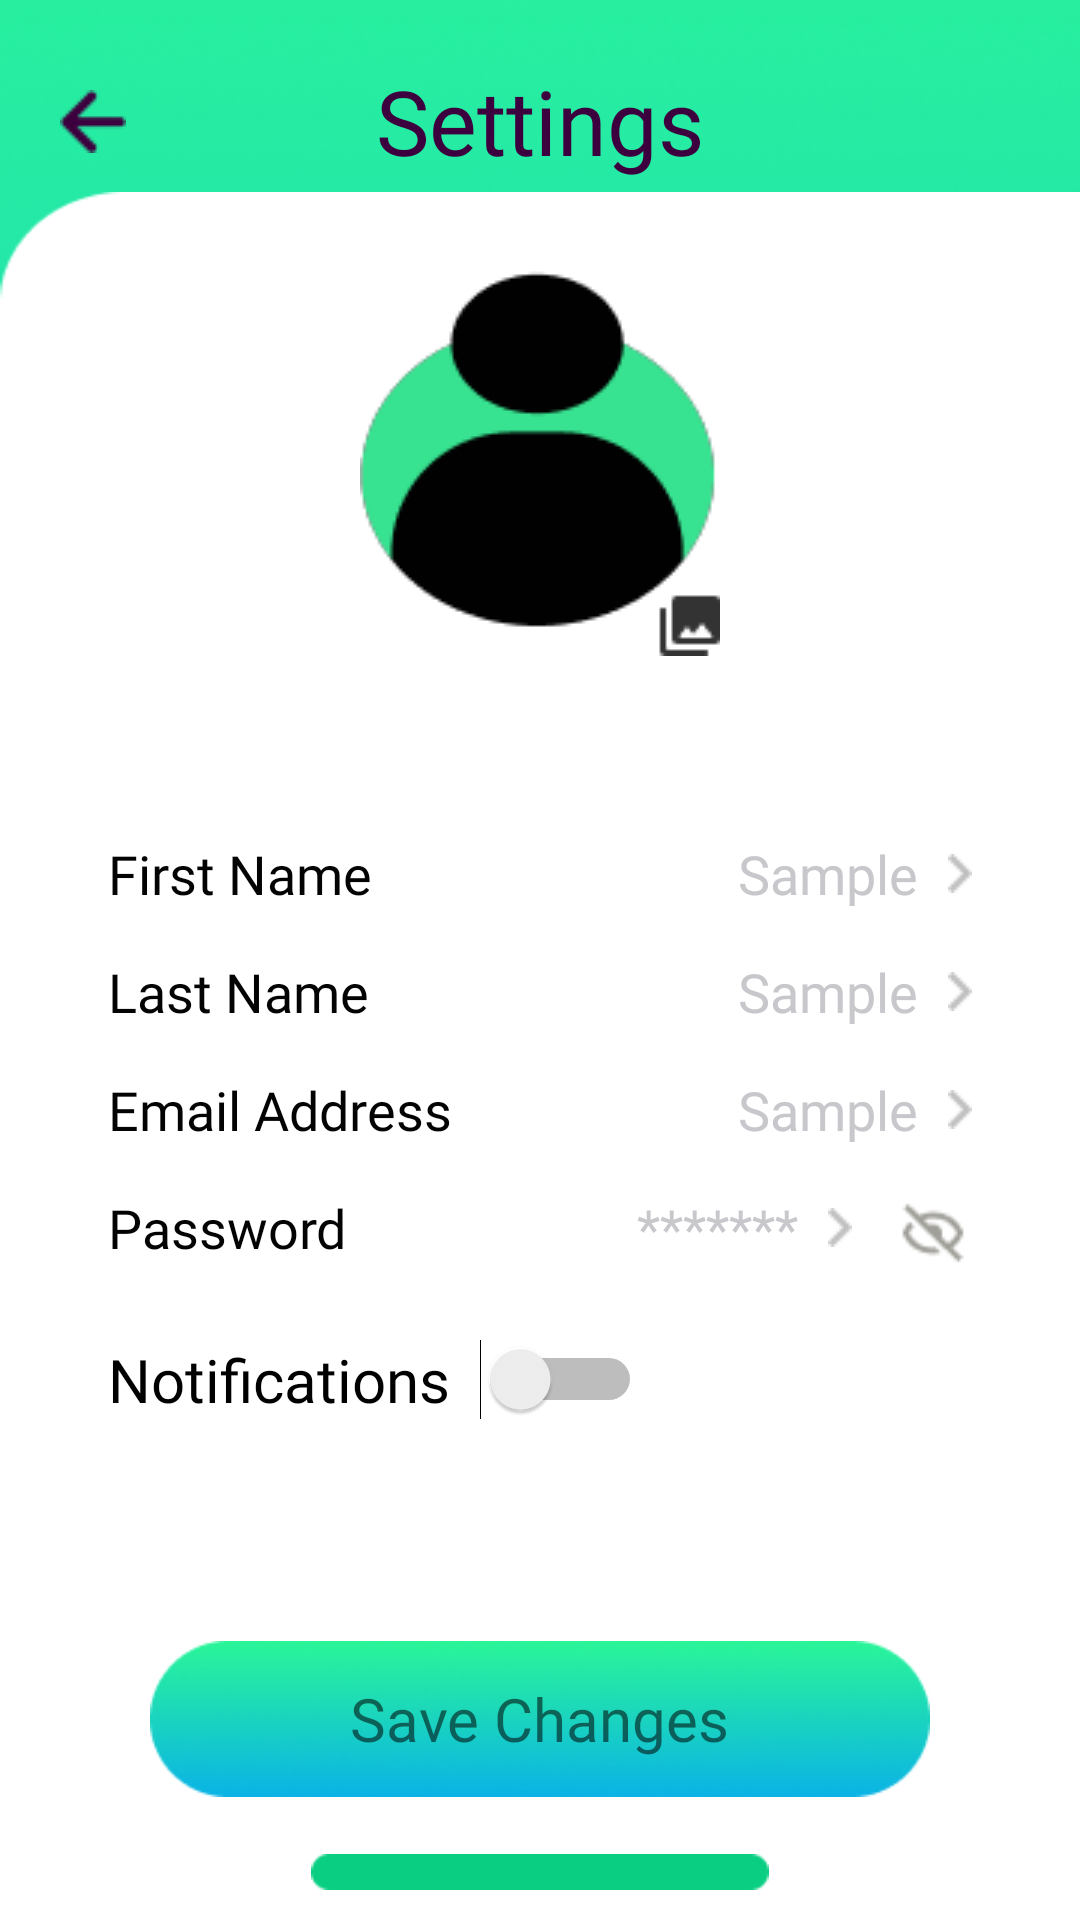

Locate icon controls on the screen. Image size 1080px×1920px, boxes as (x1, y1, x2, y2).
back: (60, 90, 126, 153)
eye visibility: (902, 1204, 964, 1262)
